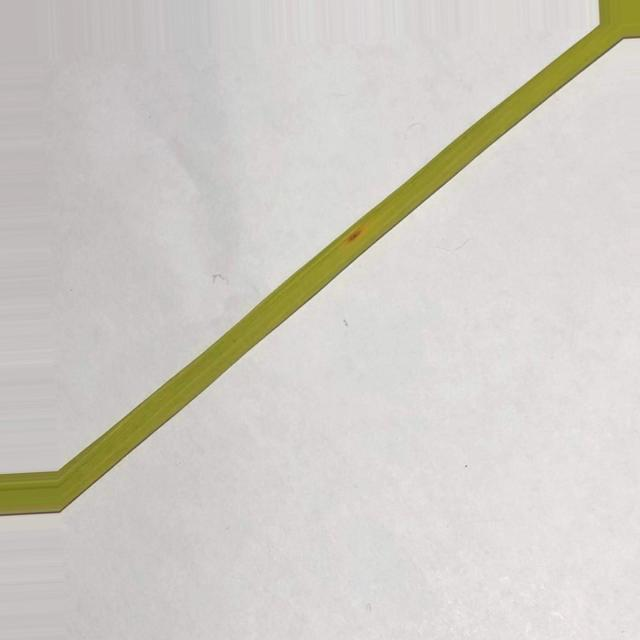Brown_Spot: (344, 225, 361, 239)
